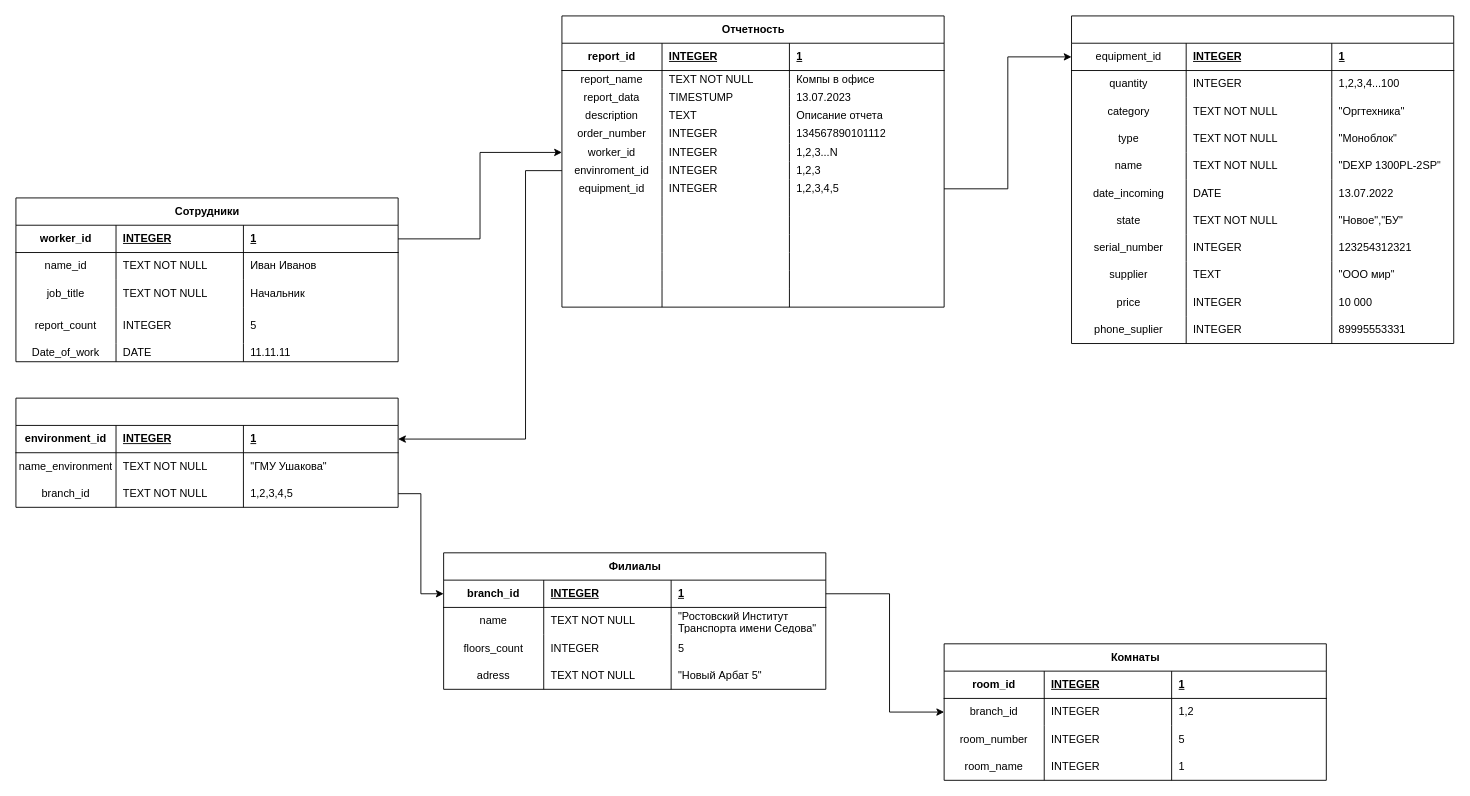
Some shapes in this 1470 by 796 pixel diagram are drawn without their labels. Here are the shapes that lost their labels. From the top down, the box of each, then its label:
(1071, 15, 1454, 344): Поступление на хранение
(15, 397, 398, 507): Предприятие
